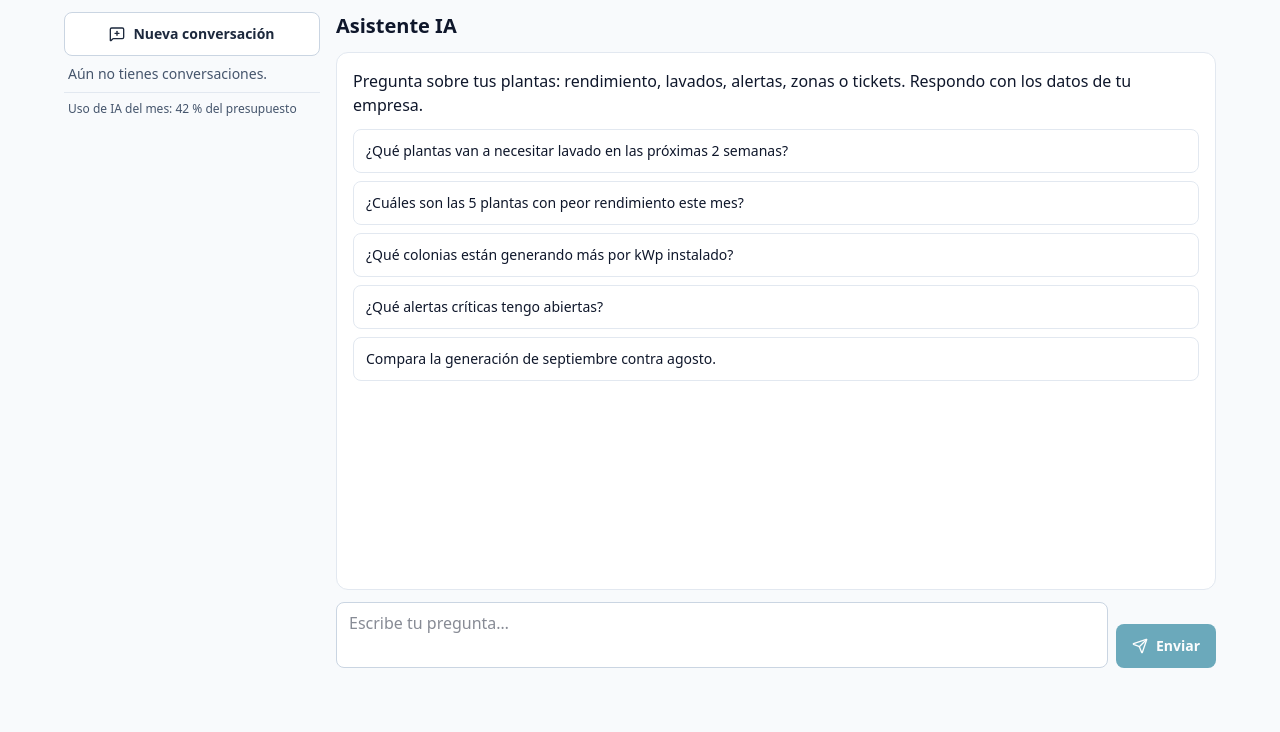
Test: asistente › no enlaza direcciones externas que escriba el modelo
Step 1. Type "Hola" into the text box labelled "tu pregunta" → point(722, 635), box [336,602,1108,668]
Then press Enter
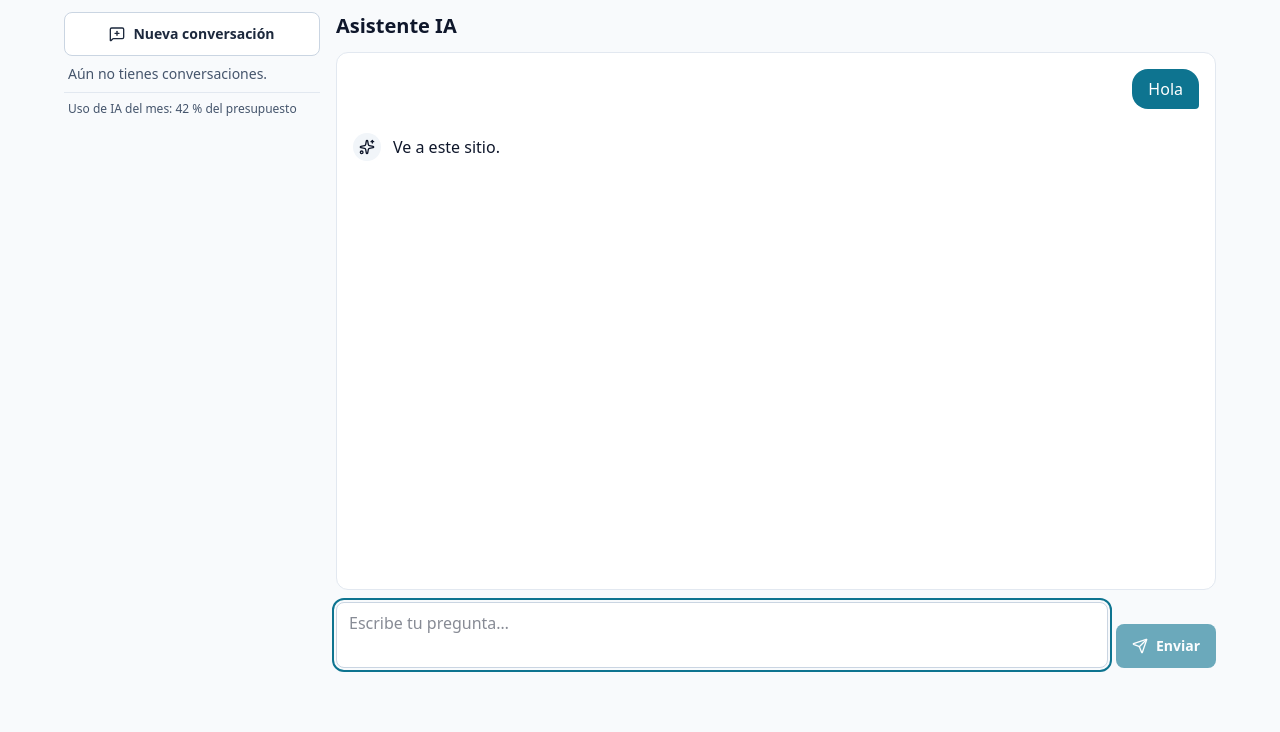
Result: the text "este sitio" is shown at [429,136,496,158]
